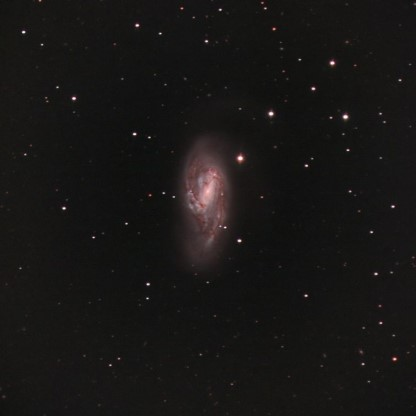Messier 66: (165, 126, 261, 286)
